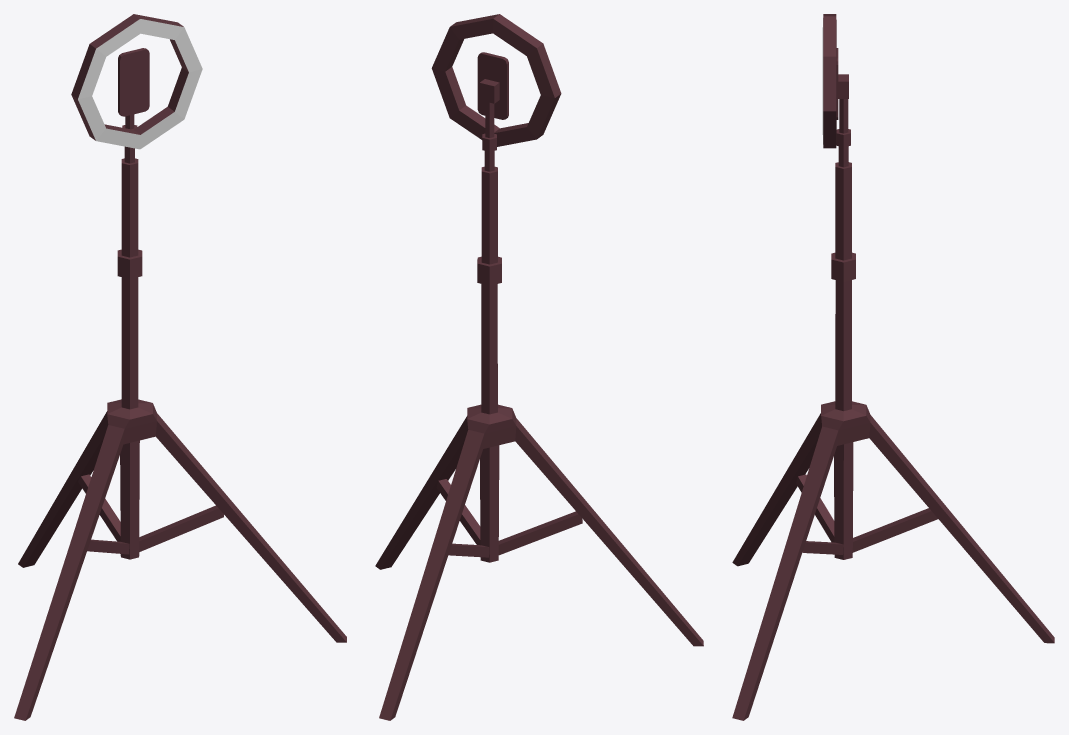
The model's file is light-ring-sit.fbx.
The picture shows the model from 3 angles, left to right: view 1: azimuth 30°, elevation 25°; view 2: azimuth 150°, elevation 25°; view 3: azimuth 270°, elevation 25°; orthographic projection.
Visible parts, largest first — view 1: light-ring-sit; view 2: light-ring-sit; view 3: light-ring-sit.
Boxes of the visible parts, <box> form: light-ring-sit: <box>14,14,346,720</box>; light-ring-sit: <box>375,14,703,720</box>; light-ring-sit: <box>732,14,1054,720</box>.
Size of the model in its own units: 0.8441 by 1.52 by 0.7141.
